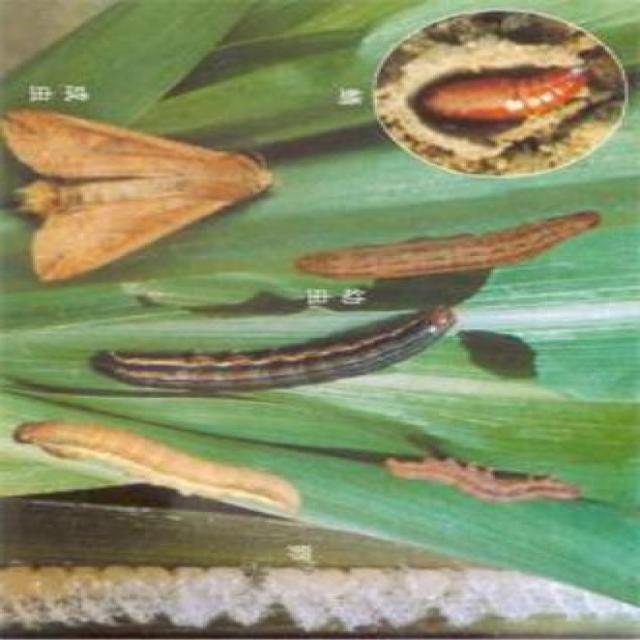army worm: (1, 107, 285, 295), (89, 300, 470, 403), (10, 422, 313, 518), (294, 206, 609, 288), (416, 63, 599, 123), (382, 457, 591, 508)
